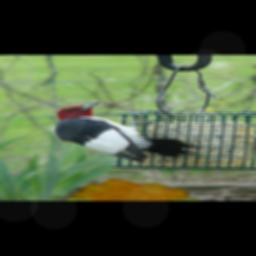Woodpecker: (55, 101, 203, 162)
